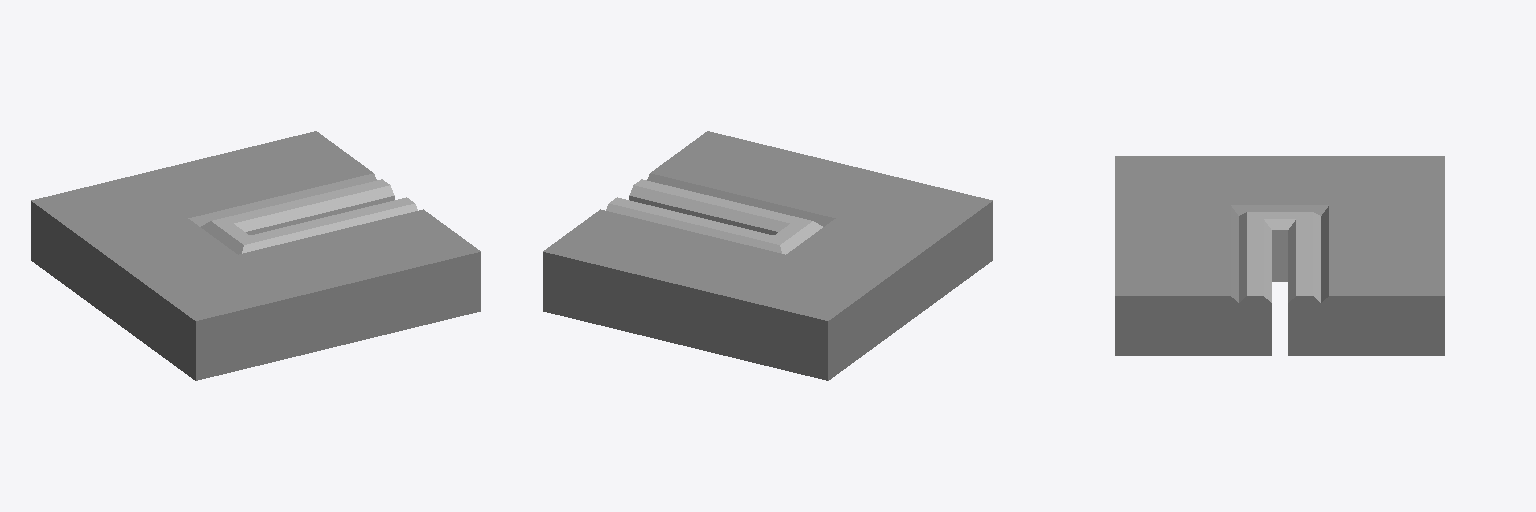
File: trap_floor_saw_slot_end.obj
3 renders of one model, left to right at view 1: azimuth 30°, elevation 25°; view 2: azimuth 150°, elevation 25°; view 3: azimuth 270°, elevation 25°, orthographic.
Parts seen in each view (by area): view 1: object1; view 2: object1; view 3: object1.
Boxes of the visible parts, box(x1,y1,x2,y2) form: object1: box(31, 131, 480, 380); object1: box(543, 131, 992, 380); object1: box(1115, 156, 1444, 355).
Size of the model in its own units: 1 by 0.2 by 1.